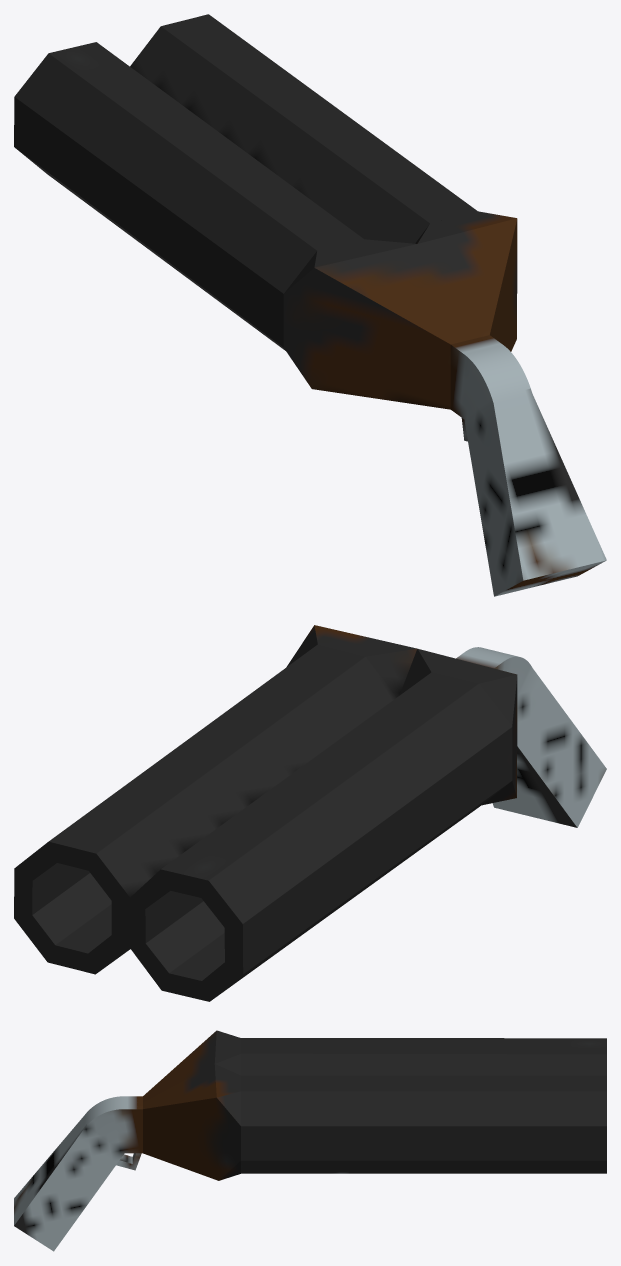
Rendered from Shotgun.obj.
3 views of the same model, one above another, from view 1: azimuth 30°, elevation 25°; view 2: azimuth 150°, elevation 25°; view 3: azimuth 270°, elevation 25° (orthographic). The views are drawn at different scales.
Visible parts, largest first — view 1: Cube; view 2: Cube; view 3: Cube.
Boxes of the visible parts, bbox=[...] form: Cube: bbox=[14, 14, 606, 596]; Cube: bbox=[14, 625, 606, 1001]; Cube: bbox=[14, 1030, 606, 1251].
Bounding box in the file's own units: 3.66 × 3.91 × 12.08.
1 material, 1 textured.
